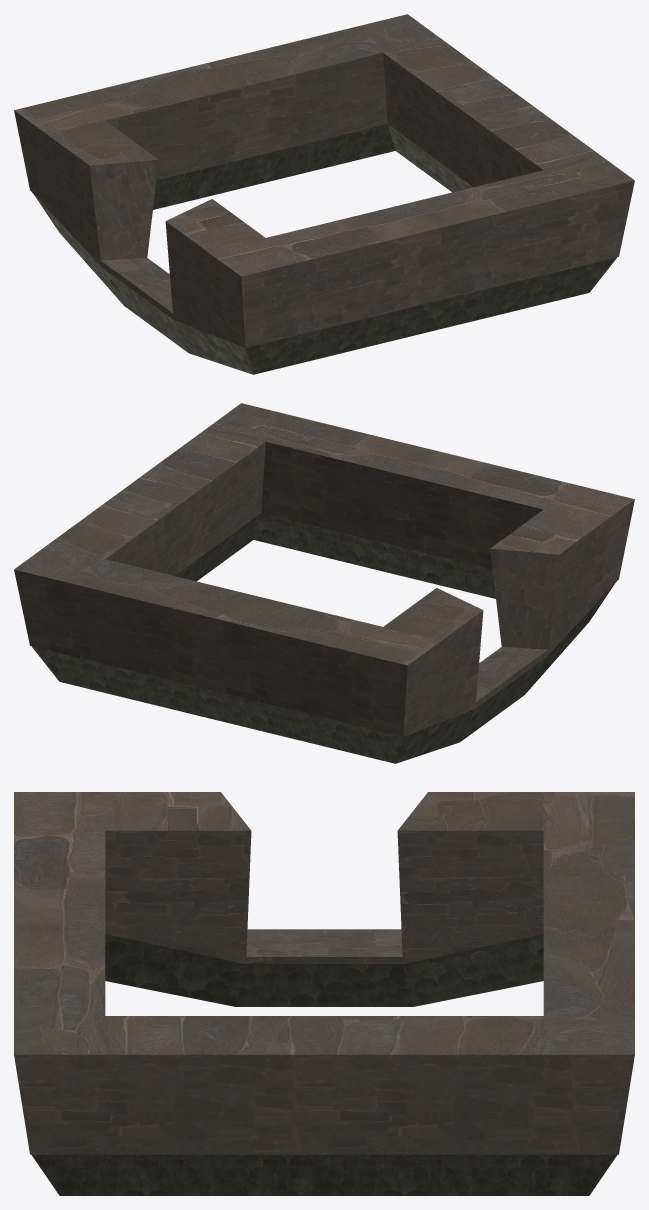
File: Castle2.fbx
3 renders of one model, top to bottom at view 1: azimuth 30°, elevation 25°; view 2: azimuth 150°, elevation 25°; view 3: azimuth 270°, elevation 25°, orthographic. The views are drawn at different scales.
Parts seen in each view (by area): view 1: Roof, Walls; view 2: Roof, Walls; view 3: Roof, Walls.
Boxes of the visible parts, <box> form: Roof: <box>14,14,634,347</box>; Walls: <box>34,124,616,374</box>; Roof: <box>14,403,634,736</box>; Walls: <box>32,513,614,763</box>; Roof: <box>14,792,634,1154</box>; Walls: <box>31,934,617,1195</box>.
Bounding box in the file's own units: 1054 × 367 × 1054.
